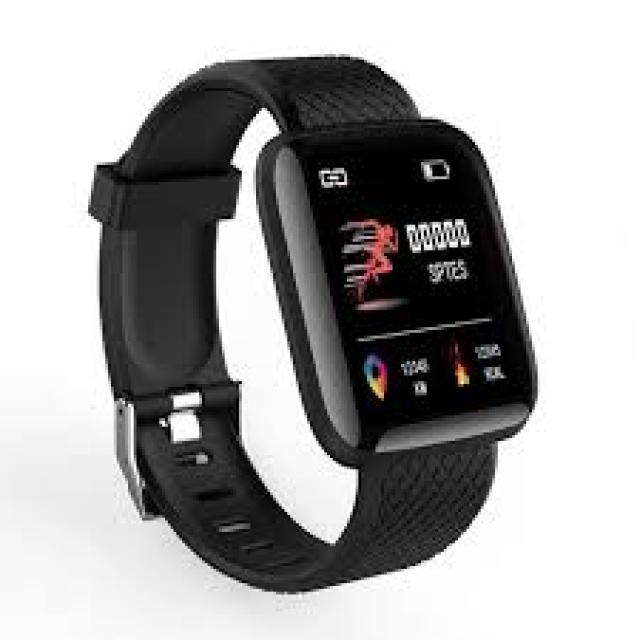objects: (88, 57, 535, 600)
